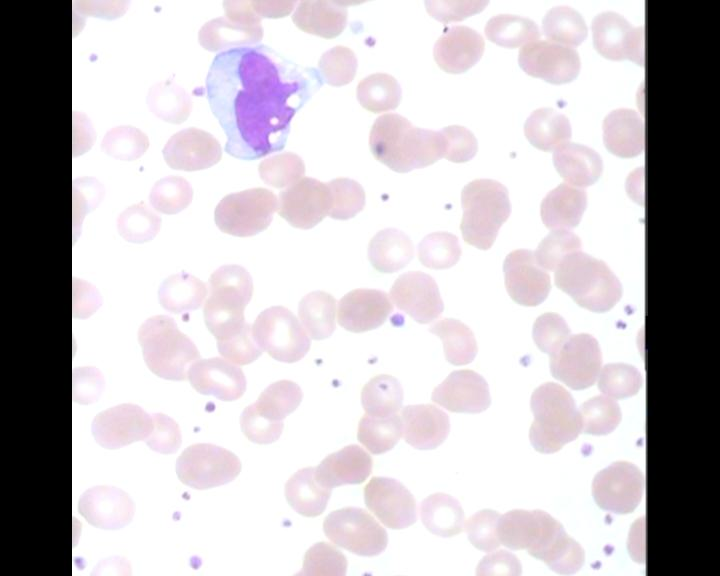mono: (200, 42, 323, 161)
